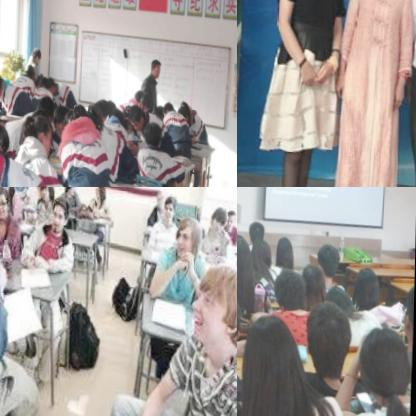head: (240, 303, 305, 406), (357, 311, 412, 392), (191, 251, 237, 347), (306, 289, 355, 376), (275, 260, 309, 310), (24, 108, 53, 157), (325, 273, 358, 314), (352, 254, 381, 297), (174, 205, 199, 252), (63, 98, 90, 138), (299, 253, 325, 294), (315, 234, 343, 272), (51, 97, 74, 143), (248, 229, 273, 267), (141, 111, 164, 147), (81, 98, 103, 135), (33, 89, 56, 124), (237, 226, 253, 268), (107, 96, 128, 127), (208, 195, 227, 229), (47, 193, 67, 225), (274, 227, 293, 259), (129, 99, 147, 128), (246, 214, 267, 238), (96, 92, 111, 117), (0, 187, 12, 215), (177, 94, 192, 116), (162, 187, 174, 213), (224, 198, 236, 223), (38, 71, 51, 94), (162, 92, 176, 113), (24, 57, 36, 81), (150, 50, 163, 72), (140, 86, 152, 109), (30, 40, 42, 62), (46, 70, 58, 92), (0, 67, 7, 98), (154, 96, 166, 114), (151, 187, 165, 201), (35, 187, 50, 199), (135, 82, 144, 99), (90, 187, 104, 194)
